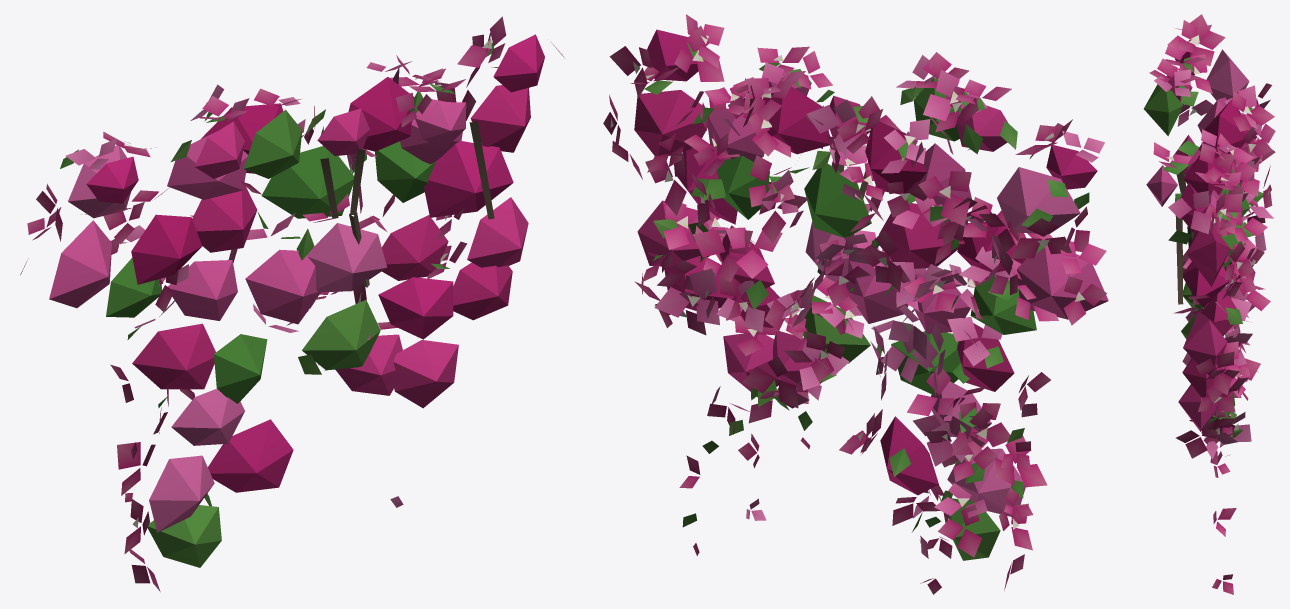
The model's file is bougainvillea_cascade.glb.
3 views of the same model, side by side, from view 1: azimuth 30°, elevation 25°; view 2: azimuth 150°, elevation 25°; view 3: azimuth 270°, elevation 25° (orthographic). The views are drawn at different scales.
Visible parts, largest first — view 1: bougainvillea_cascade; view 2: bougainvillea_cascade; view 3: bougainvillea_cascade.
Part boxes in pixels (bbox=[...]): bougainvillea_cascade: bbox=[20, 16, 564, 591]; bougainvillea_cascade: bbox=[603, 14, 1108, 594]; bougainvillea_cascade: bbox=[1144, 14, 1275, 594].
Bounding box in the file's own units: 2.77 × 2.74 × 0.7724.
